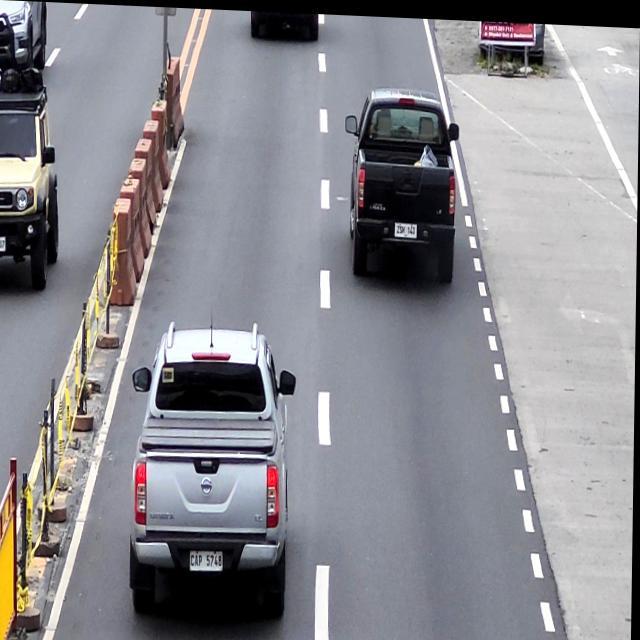Car: (128, 322, 297, 619), (344, 85, 461, 279)
License-Plate: (191, 547, 224, 569), (395, 220, 418, 235)
